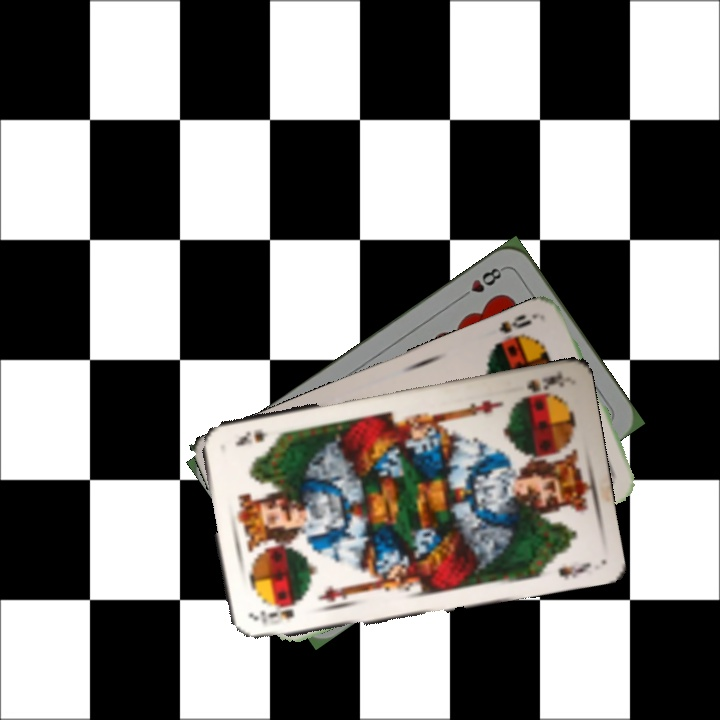H8: (455, 263, 506, 302)
SK: (517, 367, 567, 402), (253, 605, 296, 627)
SO: (494, 309, 541, 336)
